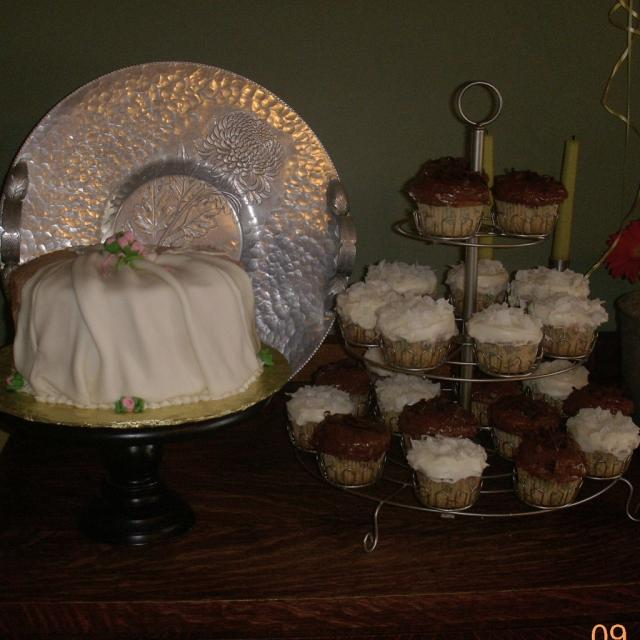non-organic waste: (1, 52, 377, 434)
